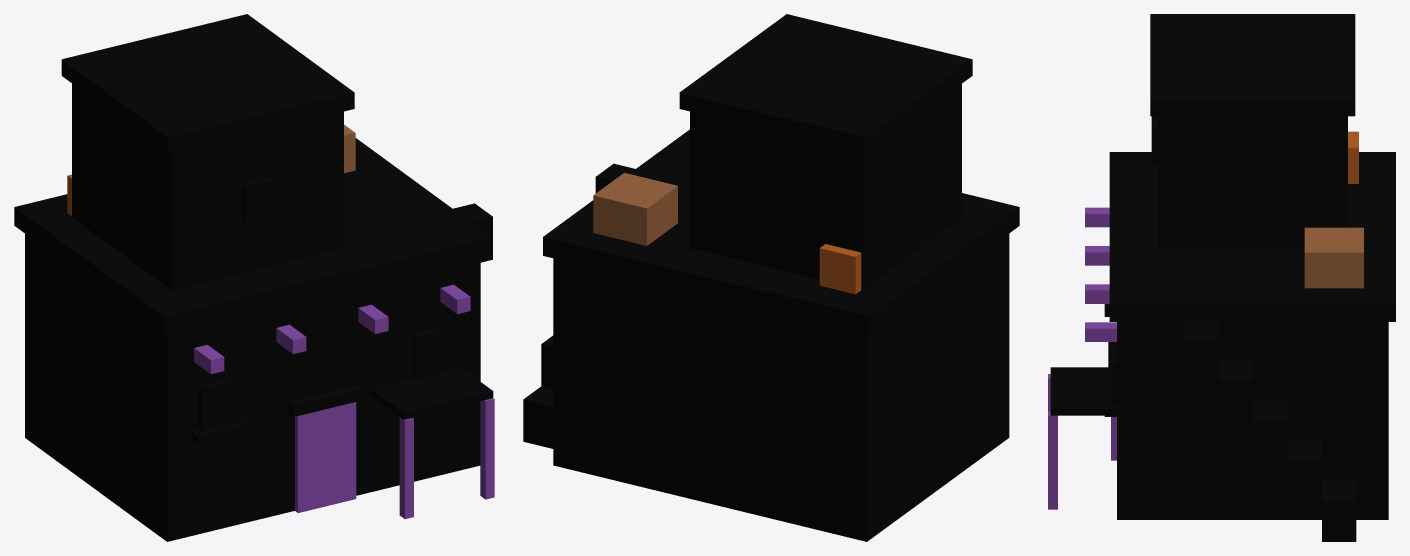
The model's file is AdobeHouseBig.obj.
3 renders of one model, left to right at view 1: azimuth 30°, elevation 25°; view 2: azimuth 150°, elevation 25°; view 3: azimuth 270°, elevation 25°, orthographic. The views are drawn at different scales.
Parts seen in each view (by area): view 1: AdobeHouseBig; view 2: AdobeHouseBig; view 3: AdobeHouseBig.
Boxes of the visible parts, x1,y1,x2,y2 form: AdobeHouseBig: [14, 14, 494, 541]; AdobeHouseBig: [523, 14, 1019, 541]; AdobeHouseBig: [1048, 14, 1395, 541].
Bounding box in the file's own units: 16.4 × 16.5 × 14.1.
